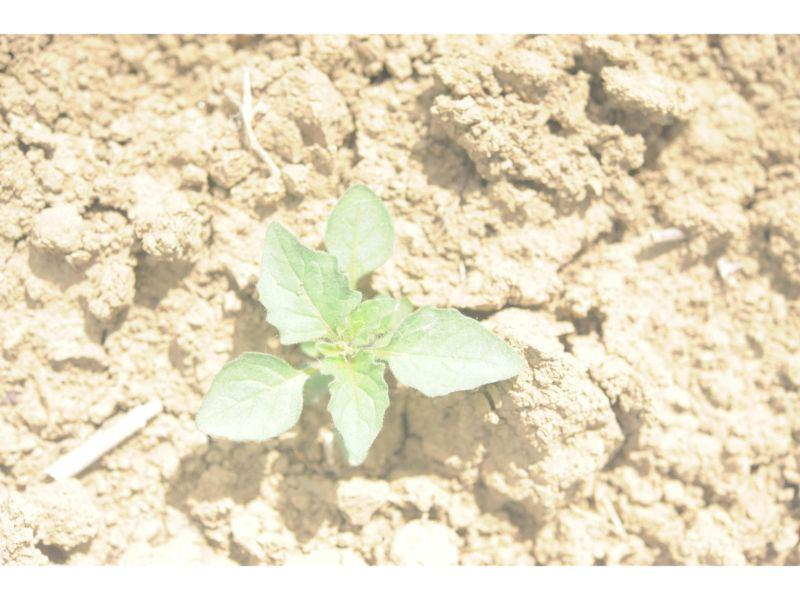nightshade: (196, 182, 523, 465)
